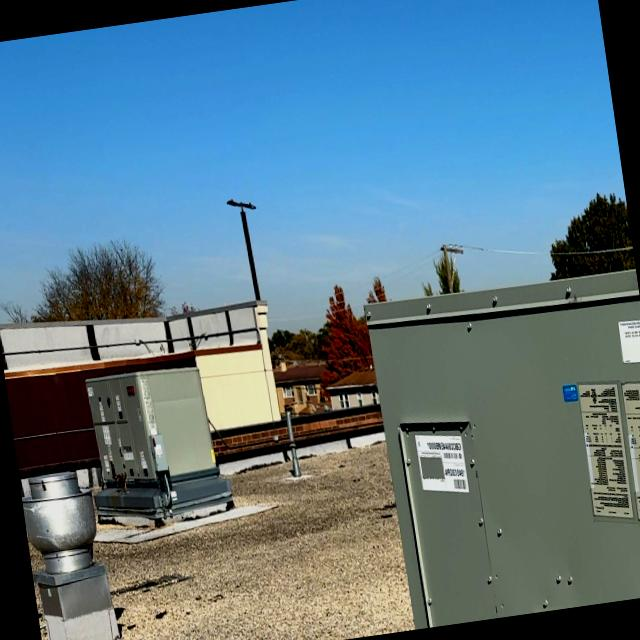GRAVITY-VENT: (18, 457, 119, 619)
RTU: (341, 247, 640, 633), (78, 350, 240, 530)
